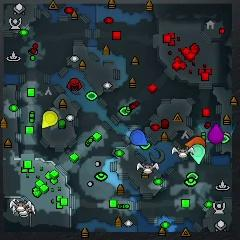p1: (130, 129, 148, 146)
p2: (189, 144, 206, 164)
p3: (208, 124, 224, 145)
p4: (42, 110, 58, 129)
p5: (185, 136, 207, 150)
